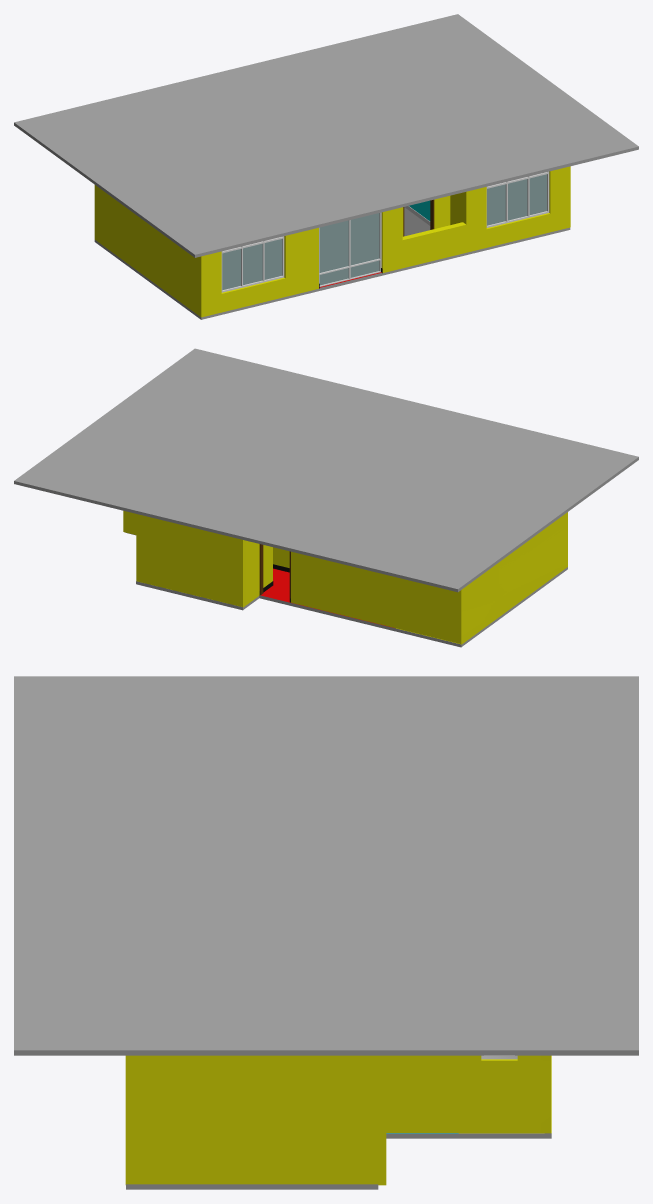
The model's file is Wing_A_Flat_No_03_Type02_MatID.fbx.
3 views of the same model, one above another, from view 1: azimuth 30°, elevation 25°; view 2: azimuth 150°, elevation 25°; view 3: azimuth 270°, elevation 25° (orthographic). The views are drawn at different scales.
Visible parts, largest first — view 1: roof, wall, balacony_door:Door_Glass1, Wing_A_Flat_No_01_Type03:Glass1, Wing_A_Flat_No_01_Type03:Flat_No_03_Type03:Glass1, Wing_A_Flat_No_01_Type03:pCube8, Wing_A_Flat_No_01_Type03:Window_Frame, Wing_A_Flat_No_01_Type03:Flat_No_03_Type03:Window_Frame, balacony_door:Flat_No_03_Type03:Door_frame_03; view 2: roof, wall, Wing_A_Flat_No_01_Type03:pCube8; view 3: roof, wall, Wing_A_Flat_No_01_Type03:pCube8.
Part boxes in pixels (<box>): roof: <box>14,14,638,257</box>; wall: <box>94,166,570,317</box>; balacony_door:Door_Glass1: <box>319,213,379,285</box>; Wing_A_Flat_No_01_Type03:Glass1: <box>222,239,282,290</box>; Wing_A_Flat_No_01_Type03:Flat_No_03_Type03:Glass1: <box>487,174,546,225</box>; Wing_A_Flat_No_01_Type03:pCube8: <box>94,207,570,319</box>; Wing_A_Flat_No_01_Type03:Window_Frame: <box>221,236,284,292</box>; Wing_A_Flat_No_01_Type03:Flat_No_03_Type03:Window_Frame: <box>486,171,549,227</box>; balacony_door:Flat_No_03_Type03:Door_frame_03: <box>319,212,381,286</box>; roof: <box>14,348,638,592</box>; wall: <box>123,511,567,644</box>; Wing_A_Flat_No_01_Type03:pCube8: <box>126,532,567,647</box>; roof: <box>14,676,638,1055</box>; wall: <box>125,1055,551,1185</box>; Wing_A_Flat_No_01_Type03:pCube8: <box>126,1056,551,1189</box>.
Bounding box in the file's own units: 1497 × 317 × 1057.
